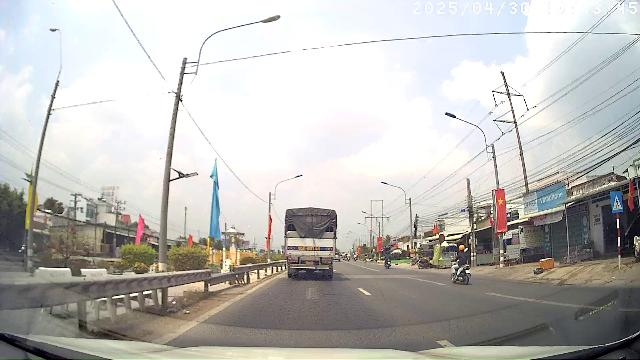423a-duong-nguoi-di-bo-sang-ngang-1: (611, 192, 623, 212)
